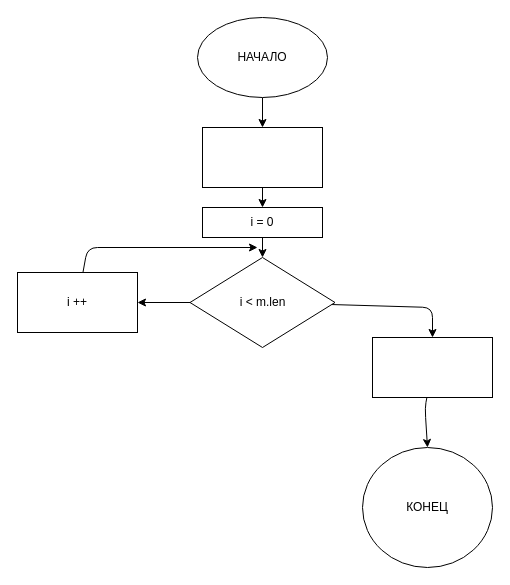
This 510x585 diagram has some shape labels left out. The box of each missing label's shape, as (x1, y1, x2, y2) in pixels:
m = {1,2,3,4}: (202, 126, 322, 188)
ввывод элементов: (372, 336, 492, 398)
